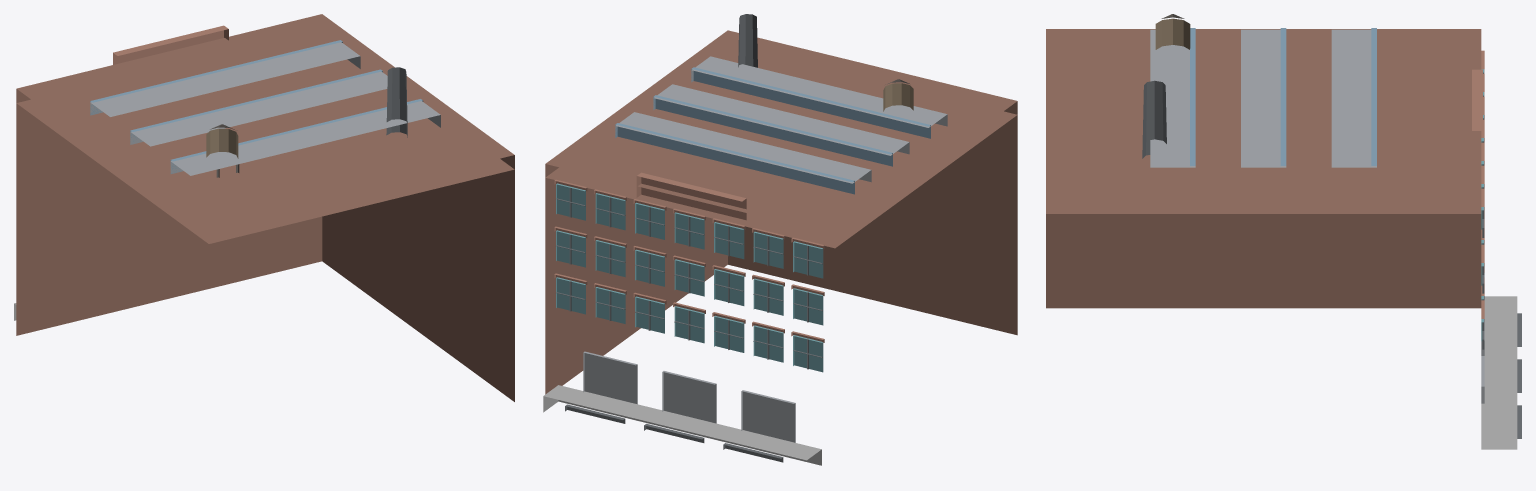
Rendered from building_warehouse.glb.
3 views of the same model, side by side, from view 1: azimuth 30°, elevation 25°; view 2: azimuth 150°, elevation 25°; view 3: azimuth 270°, elevation 25° (orthographic). The views are drawn at different scales.
Visible parts, largest first — view 1: Mesh; view 2: Mesh; view 3: Mesh.
Part boxes in pixels (x1,y1,x2,y2): Mesh: (14,14,514,401); Mesh: (543,14,1017,465); Mesh: (1046,14,1521,449).
Bounding box in the file's own units: 22 × 21.5 × 26.25.
